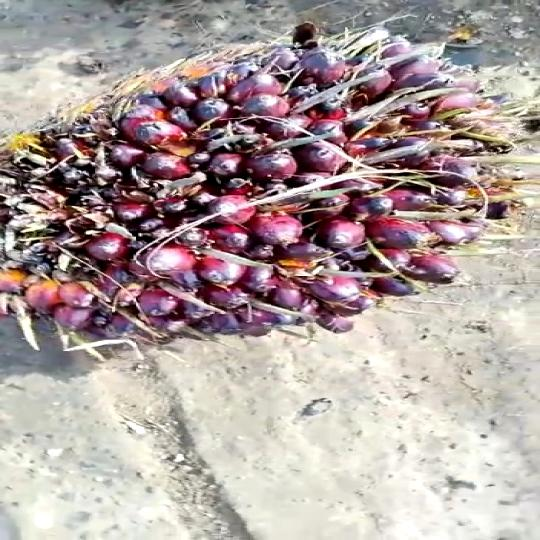masak: (0, 23, 515, 350)
